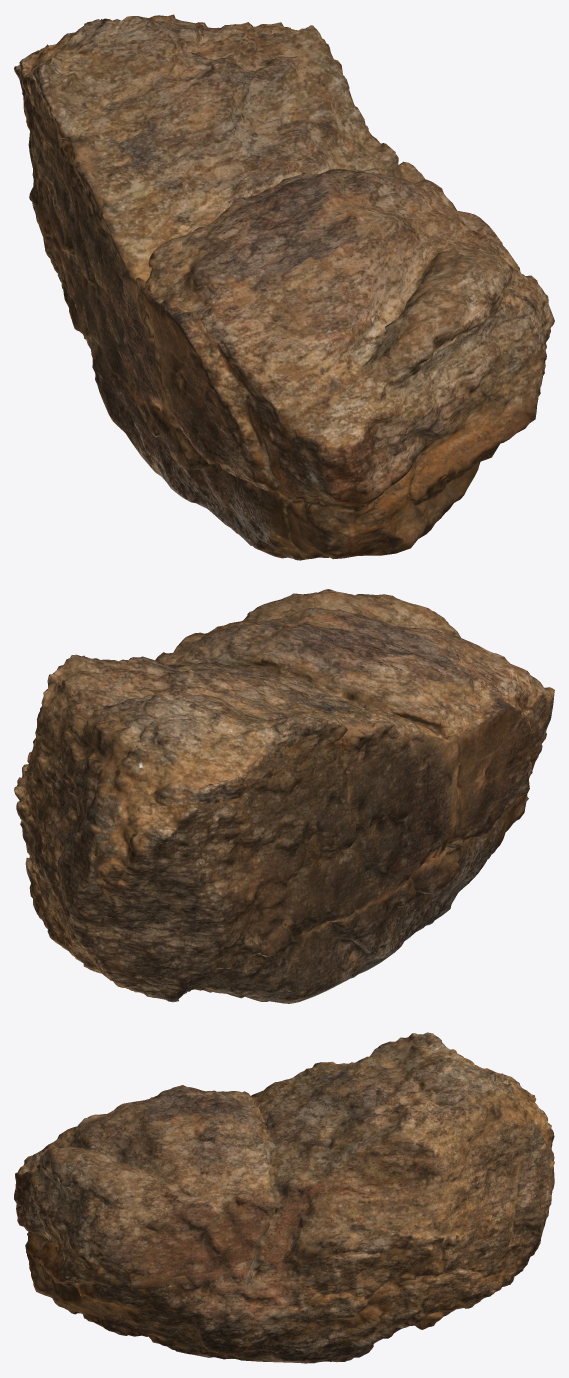
The model's file is rock_05.glb.
3 views of the same model, one above another, from view 1: azimuth 30°, elevation 25°; view 2: azimuth 150°, elevation 25°; view 3: azimuth 270°, elevation 25° (orthographic). The views are drawn at different scales.
Parts seen in each view (by area): view 1: namaqualand_boulder_06; view 2: namaqualand_boulder_06; view 3: namaqualand_boulder_06.
Part boxes in pixels (left/top/right/bottom): namaqualand_boulder_06: left=14, top=14, right=554, bottom=560; namaqualand_boulder_06: left=14, top=589, right=554, bottom=1003; namaqualand_boulder_06: left=14, top=1032, right=554, bottom=1363.
Bounding box in the file's own units: 0.6747 × 0.6512 × 1.21.
1 material, 1 textured.
